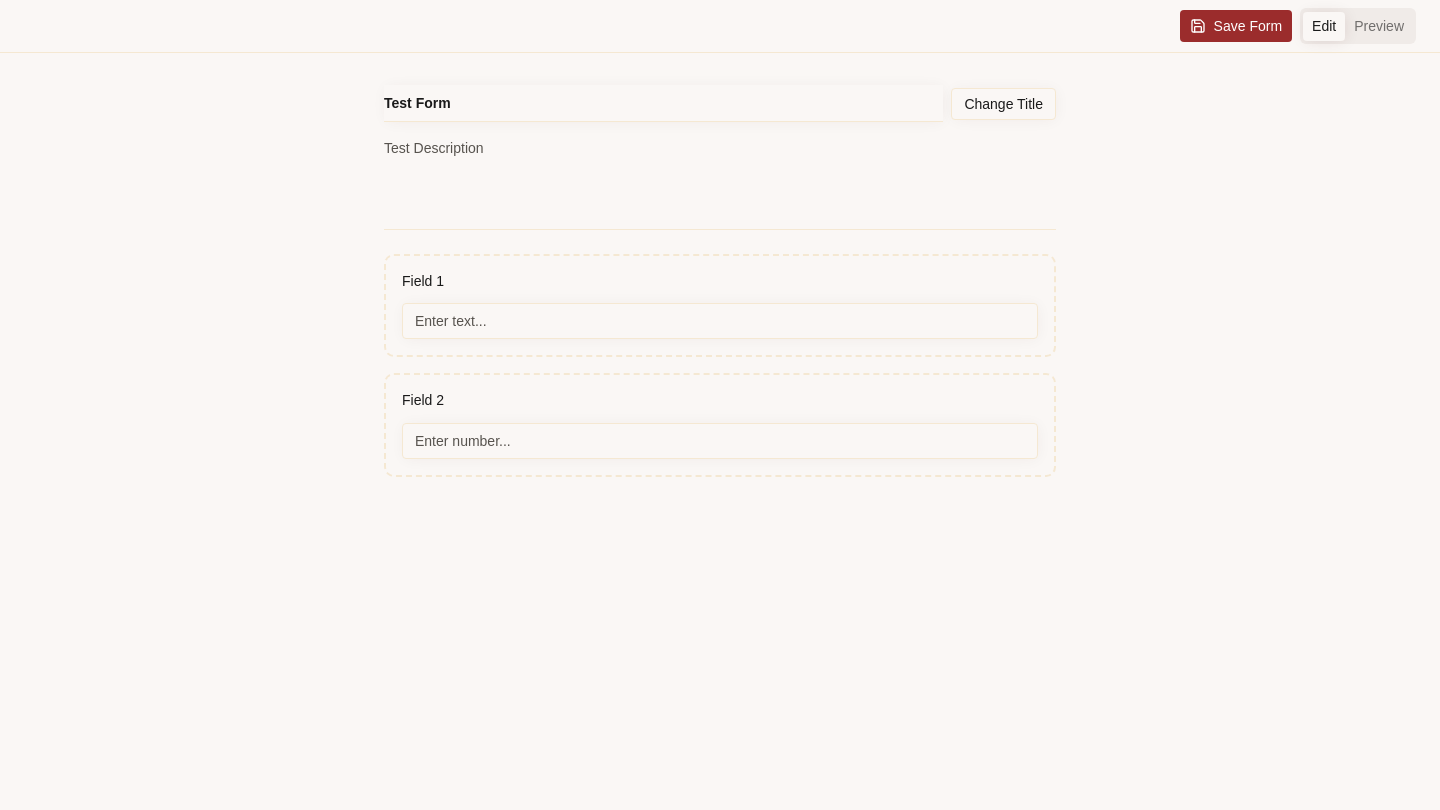
Scenario: EditorCanvas › renders preview mode correctly with fields
The image size is (1440, 810).
Click the tab "Preview": (1379, 26) x1=1345 y1=12 x2=1413 y2=40
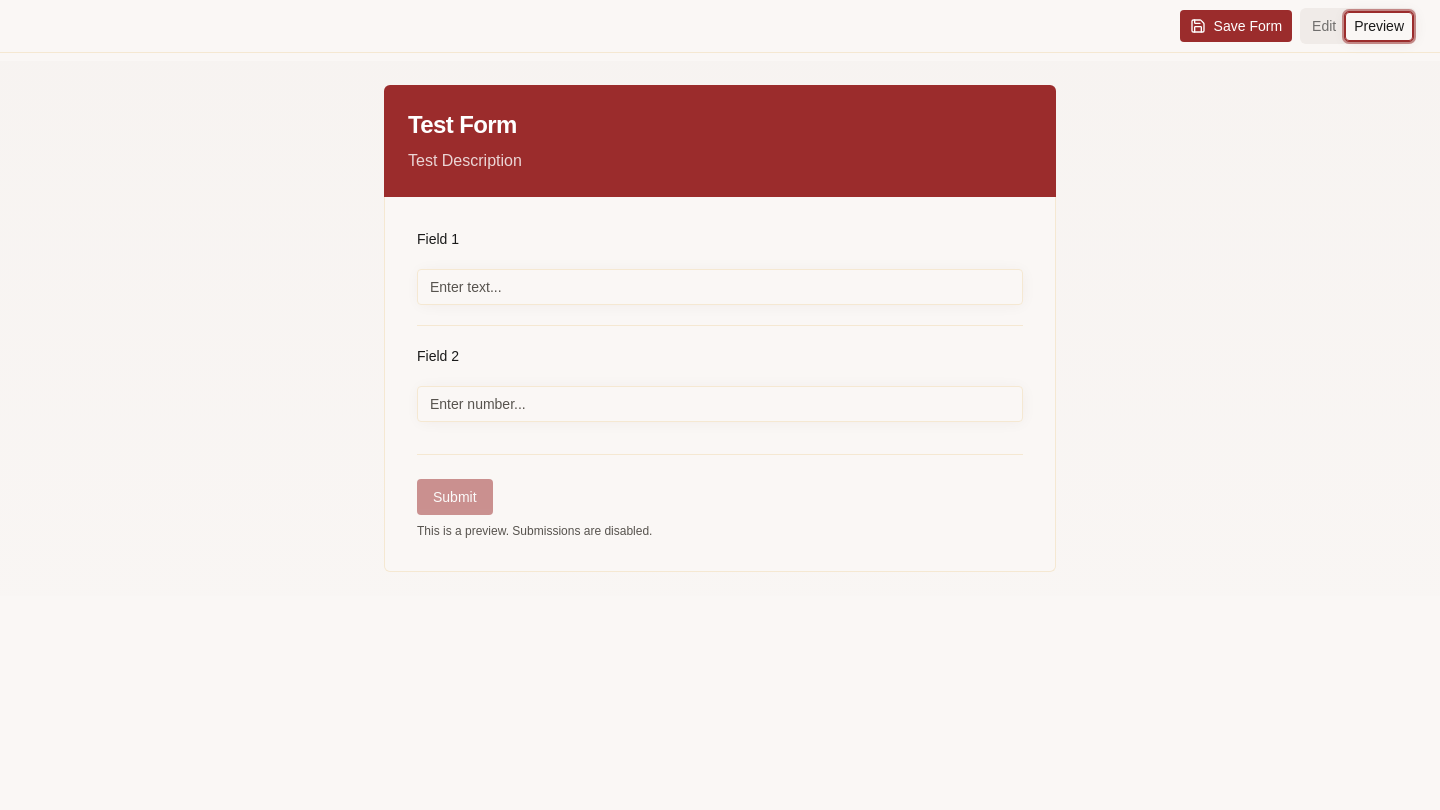
Expected: the heading "Test Form" is shown, x1=408 y1=111 x2=517 y2=138
Expected: the text "Test Description" is shown, x1=408 y1=152 x2=522 y2=169
Expected: the button "Submit" is disabled, x1=417 y1=479 x2=493 y2=515
